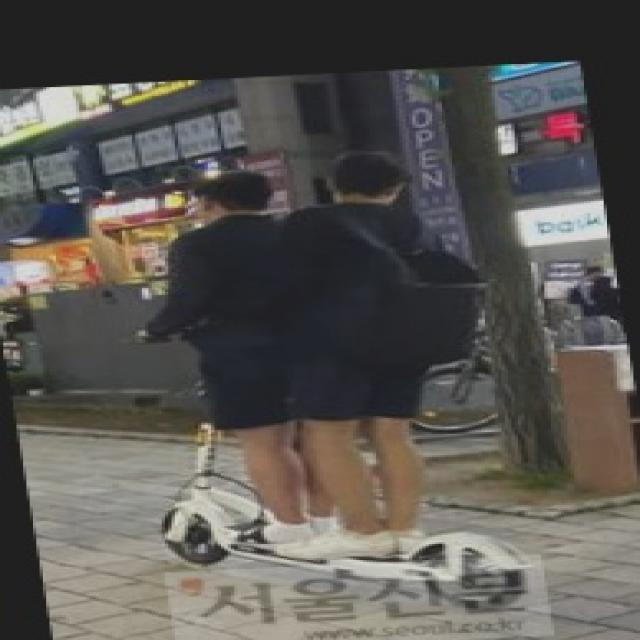bare_head: (311, 149, 413, 207), (167, 168, 275, 221)
human: (157, 165, 322, 556), (293, 142, 441, 573)
kickboard: (149, 473, 530, 611)
